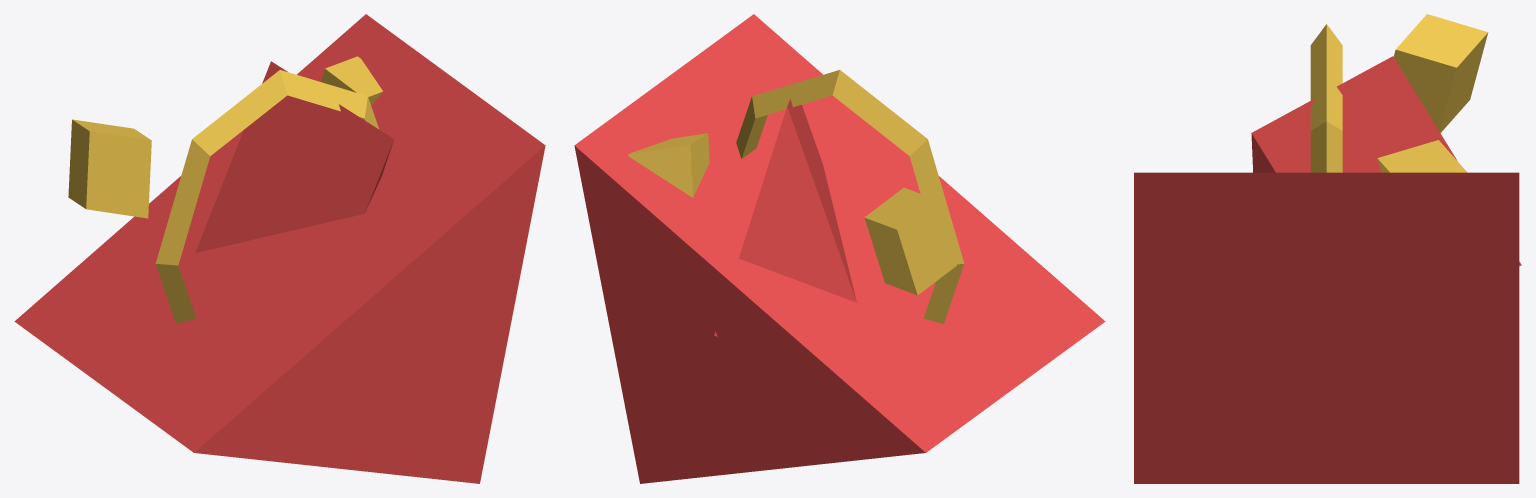
File: damage_effect__critical.glb
3 renders of one model, left to right at view 1: azimuth 30°, elevation 25°; view 2: azimuth 150°, elevation 25°; view 3: azimuth 270°, elevation 25°, orthographic. The views are drawn at different scales.
Parts seen in each view (by area): view 1: ROLE_critical, ROLE_warning; view 2: ROLE_critical, ROLE_warning; view 3: ROLE_critical, ROLE_warning.
Boxes of the visible parts, x1,y1,x2,y2 form: ROLE_critical: (14, 14, 545, 483); ROLE_warning: (68, 56, 382, 323); ROLE_critical: (574, 14, 1105, 483); ROLE_warning: (628, 70, 964, 323); ROLE_critical: (1134, 56, 1521, 483); ROLE_warning: (1310, 14, 1488, 172).
Size of the model in its own units: 3.92 by 4 by 3.49.
